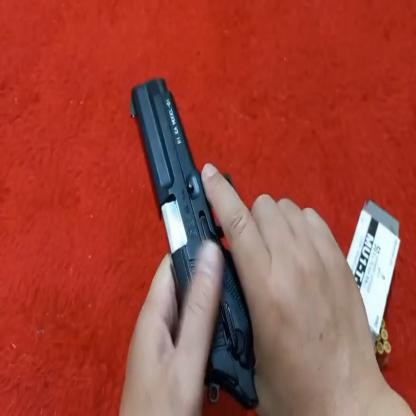handgun: (127, 61, 255, 416)
